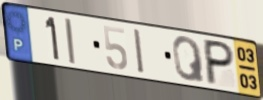1: (44, 15, 62, 62)
5: (101, 23, 129, 71)
I: (131, 27, 147, 77), (62, 17, 78, 67)
P: (204, 37, 236, 87)
Q: (171, 35, 207, 85)
